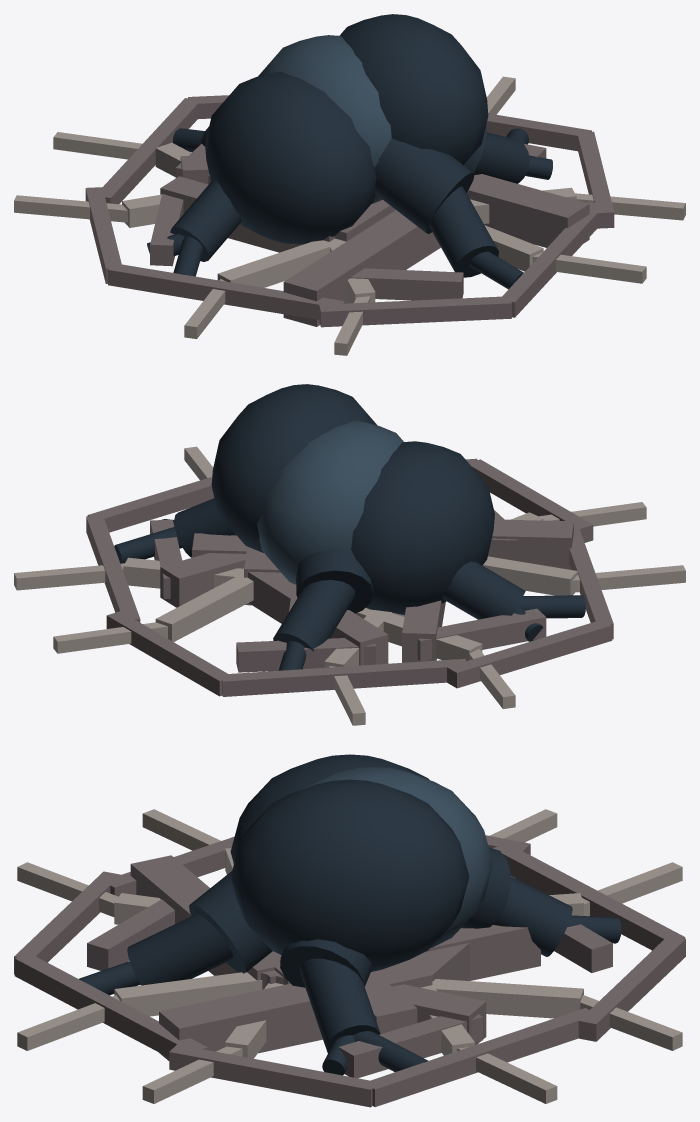
File: CMU3DHiveCMU14XenoMyceliumHiveWeedsSourceHidden.glb
3 renders of one model, top to bottom at view 1: azimuth 30°, elevation 25°; view 2: azimuth 150°, elevation 25°; view 3: azimuth 270°, elevation 25°, orthographic. The views are drawn at different scales.
Parts seen in each view (by area): view 1: overlapping root node (×3), interwoven root loop (×8), connected ground rhizome (×7), sinuous anchoring root (×7), forked ground filament (×12), forked root tip; view 2: overlapping root node (×3), interwoven root loop (×7), connected ground rhizome (×10), forked ground filament (×12), sinuous anchoring root (×7); view 3: overlapping root node (×3), connected ground rhizome (×9), interwoven root loop (×7), forked ground filament (×13), sinuous anchoring root (×9), forked root tip.
Part boxes in pixels (x1,y1,x2,y2): overlapping root node (×3): (205, 14, 488, 244); interwoven root loop (×8): (85, 95, 614, 327); connected ground rhizome (×7): (150, 155, 589, 326); sinuous anchoring root (×7): (170, 128, 529, 289); forked ground filament (×12): (14, 76, 685, 355); forked root tip: (525, 155, 552, 179); overlapping root node (×3): (211, 384, 494, 615); interwoven root loop (×7): (86, 459, 613, 696); connected ground rhizome (×10): (150, 519, 573, 672); forked ground filament (×12): (14, 446, 685, 725); sinuous anchoring root (×7): (114, 498, 585, 670); overlapping root node (×3): (230, 754, 493, 971); connected ground rhizome (×9): (87, 855, 612, 1078); interwoven root loop (×7): (14, 836, 685, 1107); forked ground filament (×13): (17, 809, 682, 1103); sinuous anchoring root (×9): (79, 847, 621, 1071); forked root tip: (322, 1035, 354, 1075).
Size of the model in its own units: 0.619 by 0.221 by 0.619.
